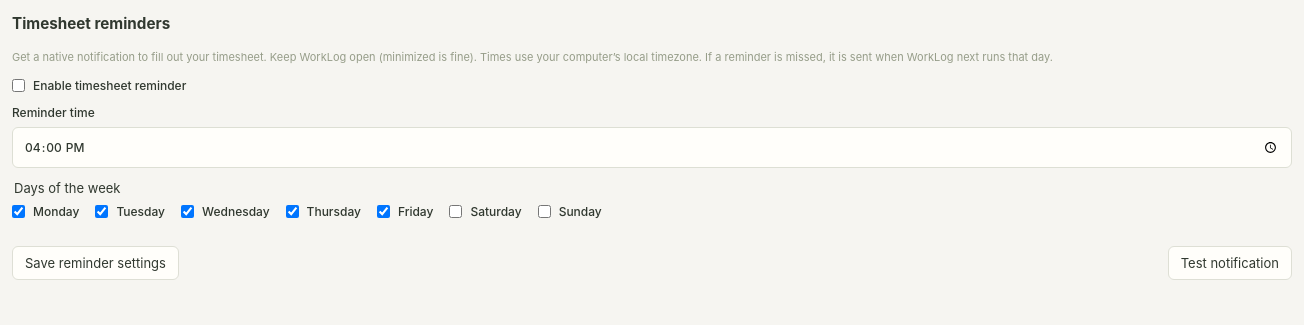
Test: saves the chosen local time and weekdays
The width and height of the screenshot is (1304, 325).
Click the checkbox labelled "Enable timesheet reminder" at point(18, 86), box 12,79 -> 25,92
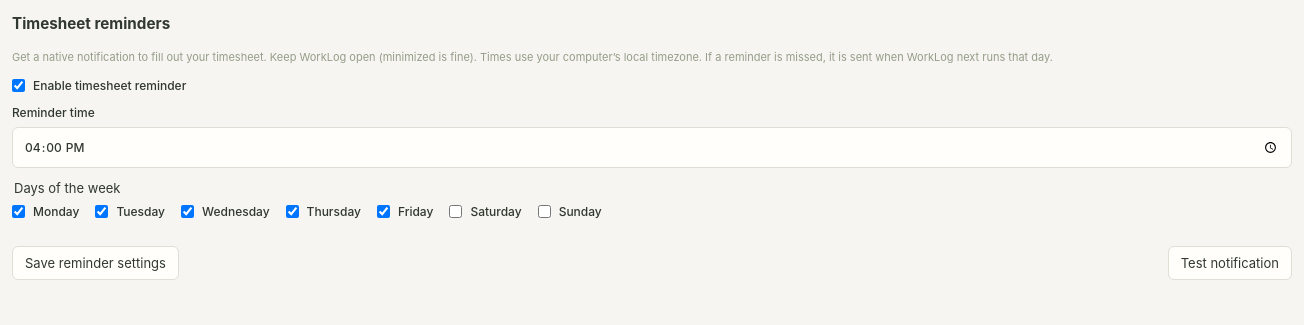
Replace the text in the time field labelled "Reminder time" with "17:30" at point(652, 147), box 12,127 -> 1292,168
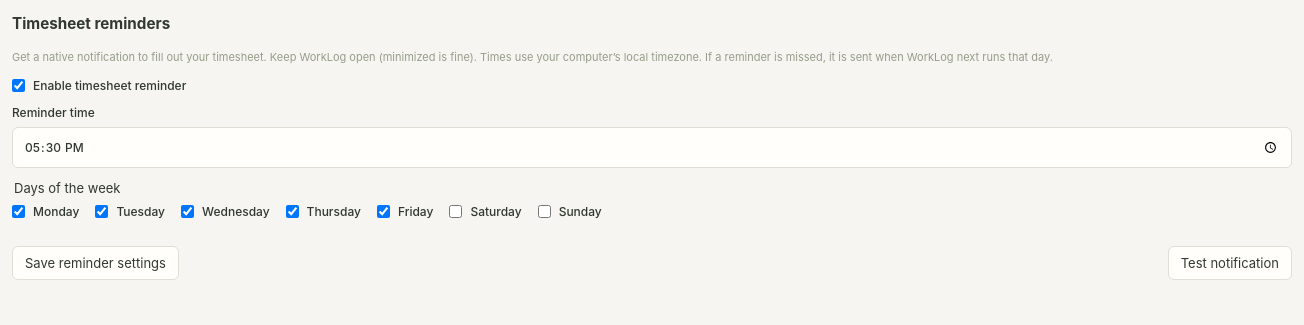
Click the checkbox labelled "Monday" at point(18, 211), box 12,205 -> 25,218
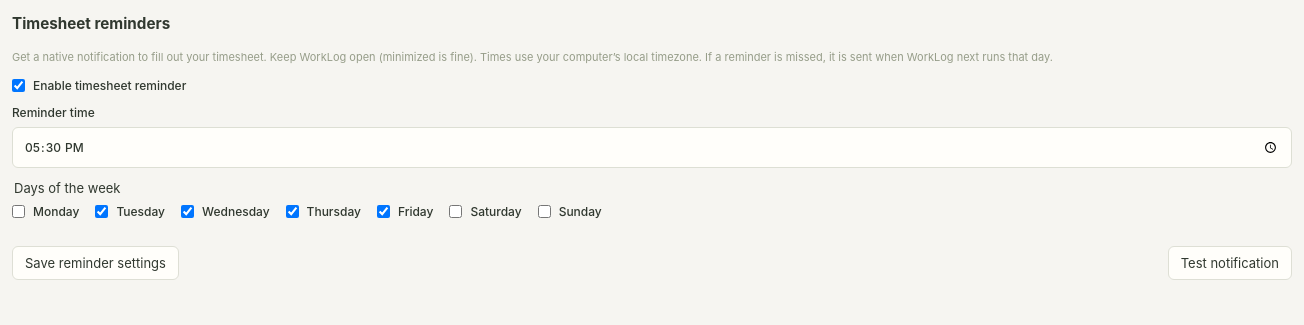
Click the checkbox labelled "Saturday" at point(456, 211), box 449,205 -> 462,218
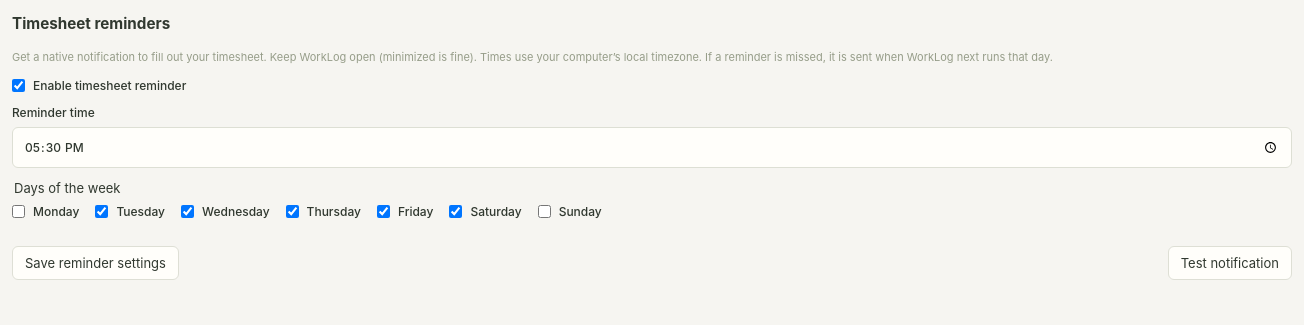
Click the button "Save reminder settings" at point(95, 263), box 12,246 -> 179,280
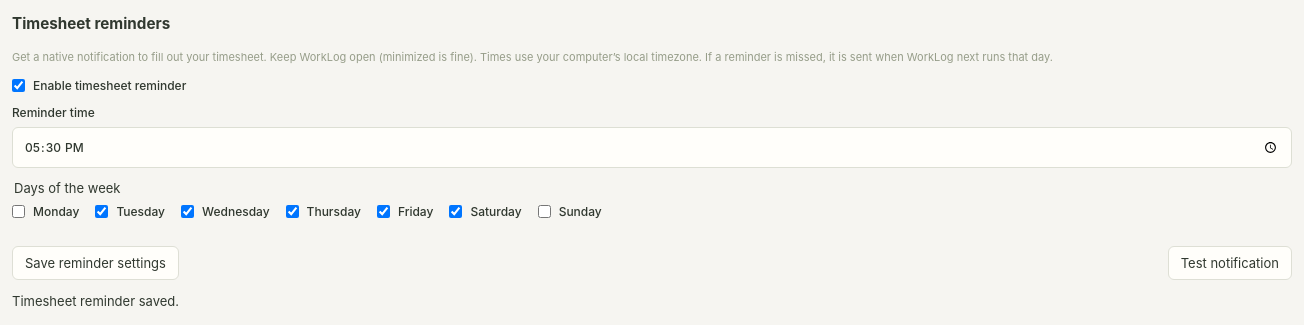
Check: the text "Timesheet reminder saved." is shown, box 12,293 -> 179,309
